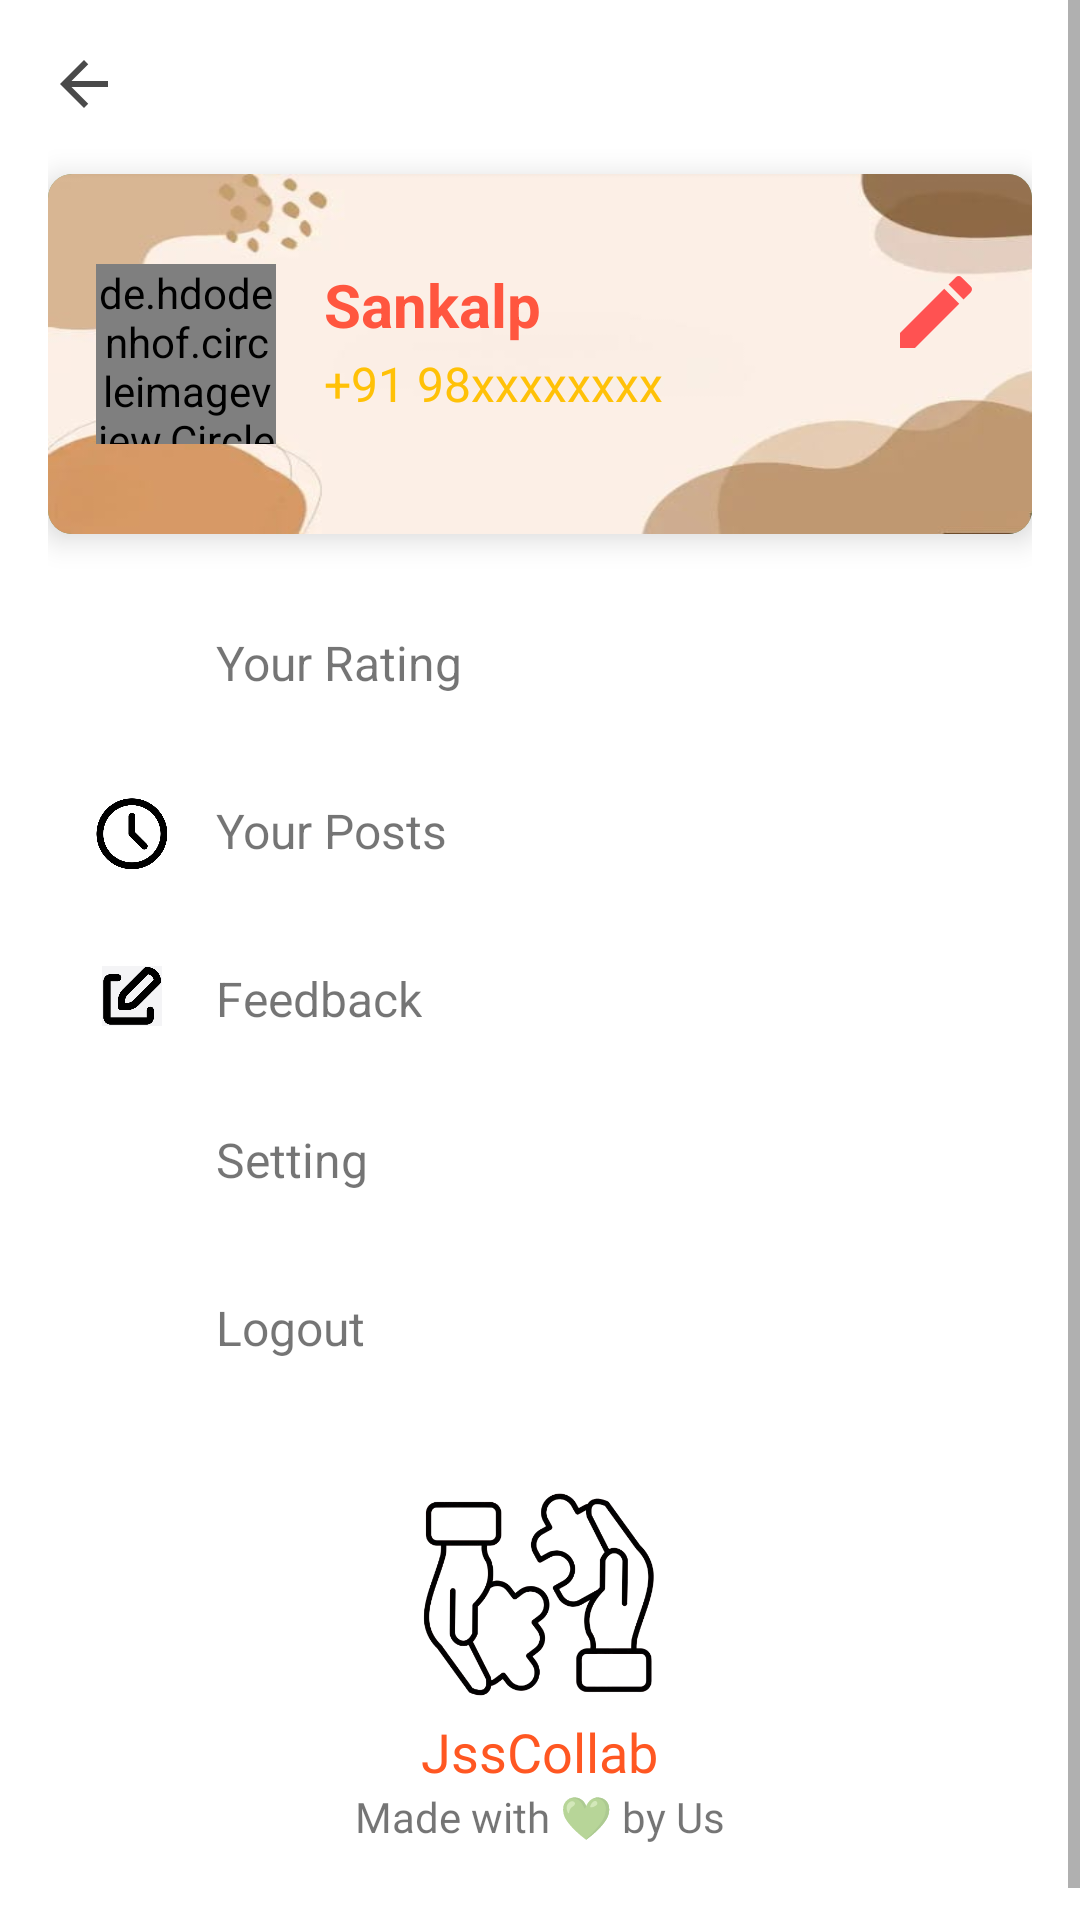

Icon click points for this 1080×1920 phone screenshot, format (x=x, y=y):
back arrow: (x=84, y=84)
clock: (x=131, y=833)
create post: (x=132, y=996)
edit: (x=936, y=312)
